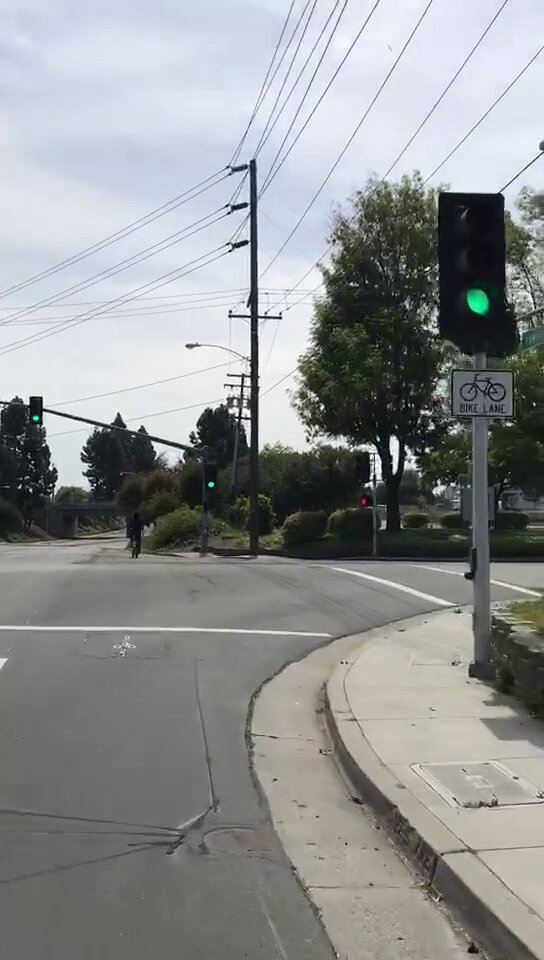green_light: (443, 197, 503, 340), (29, 398, 42, 425), (206, 465, 217, 489)
